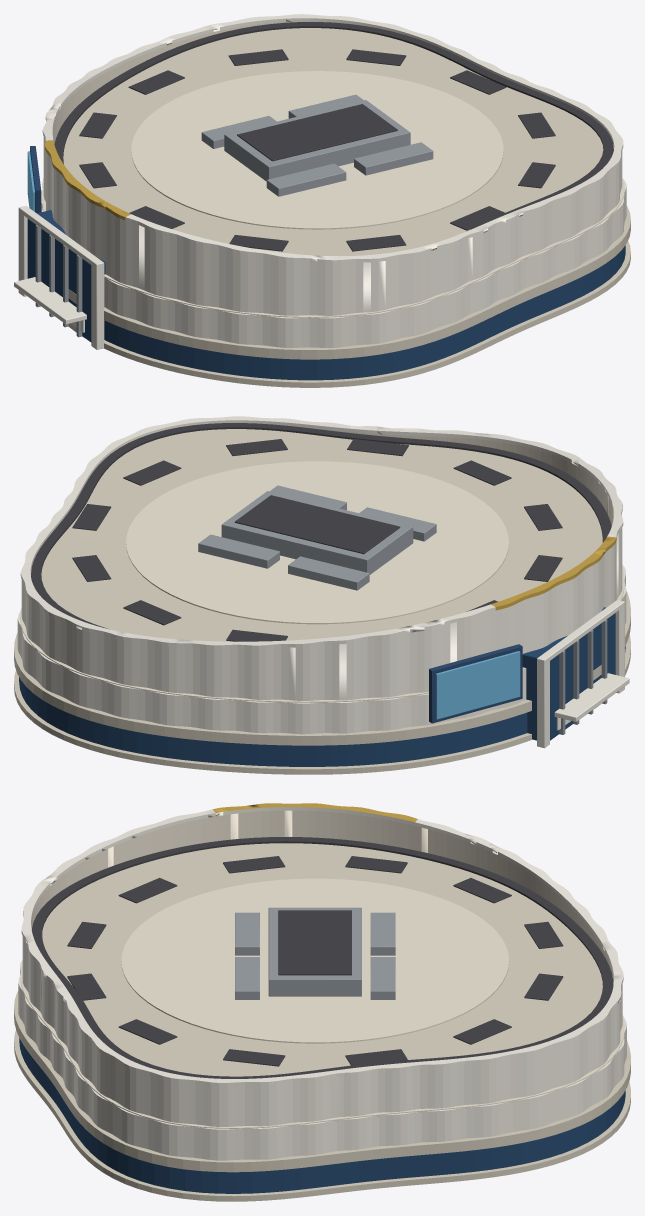
File: chase-center.glb
3 renders of one model, top to bottom at view 1: azimuth 30°, elevation 25°; view 2: azimuth 150°, elevation 25°; view 3: azimuth 270°, elevation 25°, orthographic. The views are drawn at different scales.
Parts seen in each view (by area): view 1: grp_Toy_stone, grp_Toy_sand, sail_skin, grp_Toy_trim, grp_Toy_roofd, grp_Toy_glass, sail_crest, grp_Toy_steel; view 2: grp_Toy_stone, grp_Toy_sand, sail_skin, grp_Toy_trim, grp_Toy_roofd, grp_Toy_glass, sail_crest, grp_Toy_steel, board_screen, board_frame; view 3: grp_Toy_stone, grp_Toy_sand, sail_skin, grp_Toy_roofd, grp_Toy_trim, grp_Toy_glass, sail_crest, grp_Toy_steel.
Boxes of the visible parts, left/top/right/bottom form: grp_Toy_stone: left=63, top=28, right=630, bottom=387; grp_Toy_sand: left=42, top=71, right=624, bottom=318; sail_skin: left=43, top=21, right=622, bottom=315; grp_Toy_trim: left=14, top=178, right=626, bottom=349; grp_Toy_roofd: left=54, top=22, right=613, bottom=251; grp_Toy_glass: left=27, top=210, right=625, bottom=380; sail_crest: left=42, top=14, right=623, bottom=263; grp_Toy_steel: left=35, top=94, right=433, bottom=337; grp_Toy_stone: left=14, top=429, right=630, bottom=774; grp_Toy_sand: left=20, top=461, right=624, bottom=703; sail_skin: left=21, top=429, right=622, bottom=700; grp_Toy_trim: left=17, top=564, right=629, bottom=748; grp_Toy_roofd: left=31, top=423, right=611, bottom=641; grp_Toy_glass: left=19, top=607, right=625, bottom=766; sail_crest: left=20, top=416, right=623, bottom=648; grp_Toy_steel: left=198, top=485, right=607, bottom=734; board_screen: left=435, top=651, right=520, bottom=719; board_frame: left=429, top=644, right=522, bottom=723; grp_Toy_stone: left=14, top=843, right=630, bottom=1201; grp_Toy_sand: left=20, top=878, right=624, bottom=1128; sail_skin: left=22, top=810, right=622, bottom=1126; grp_Toy_roofd: left=31, top=837, right=613, bottom=1078; grp_Toy_trim: left=18, top=960, right=626, bottom=1160; grp_Toy_glass: left=19, top=1038, right=625, bottom=1193; sail_crest: left=21, top=803, right=623, bottom=1086; grp_Toy_steel: left=235, top=907, right=395, bottom=999.
Size of the model in its own units: 164 by 40.8 by 159.
